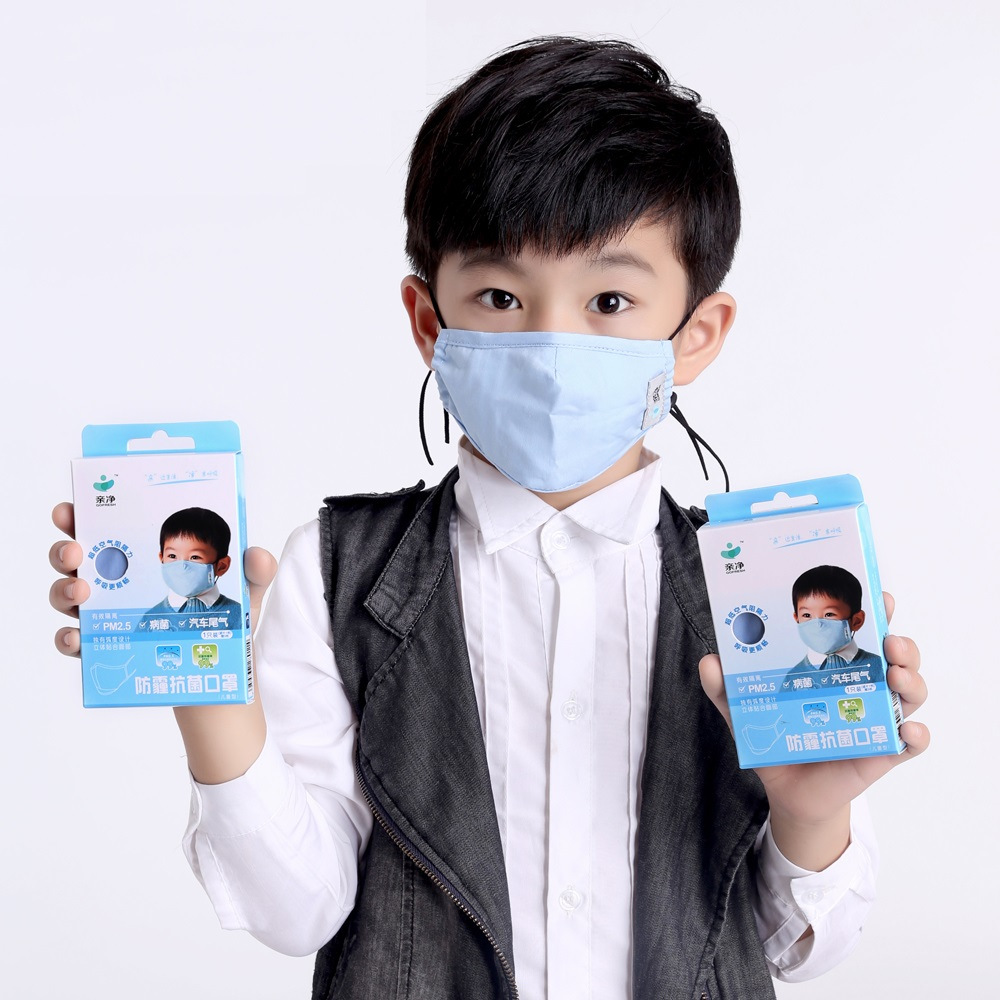face_mask: (432, 161, 684, 489), (161, 535, 211, 592), (795, 594, 846, 649)
